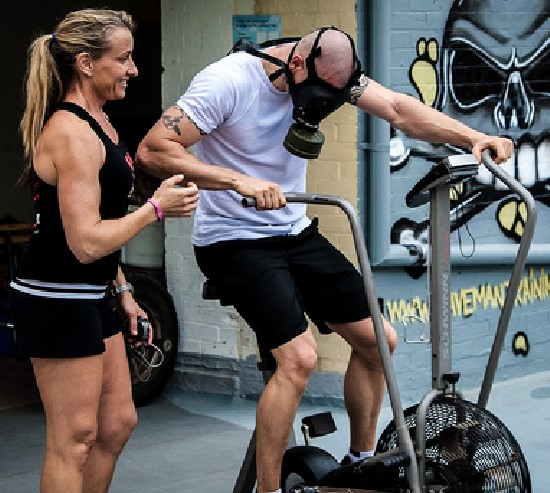face_no_mask: (58, 8, 137, 108)
face_with_mask: (281, 20, 365, 160)
